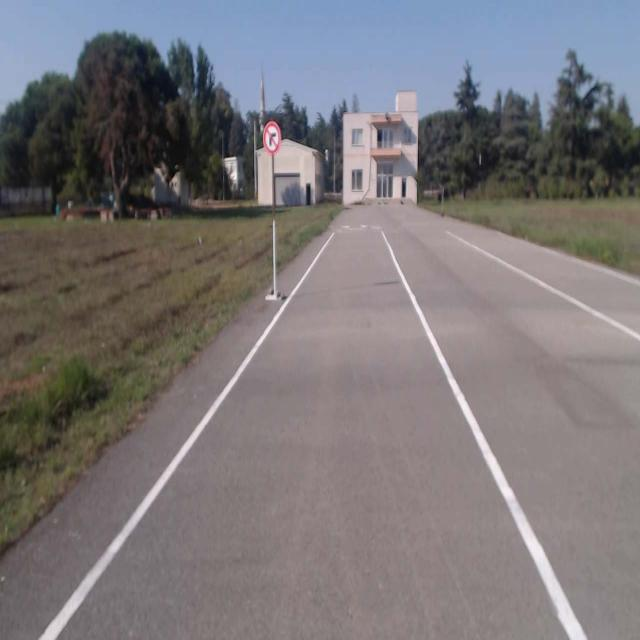sagadonulmez: (263, 122, 281, 154)
